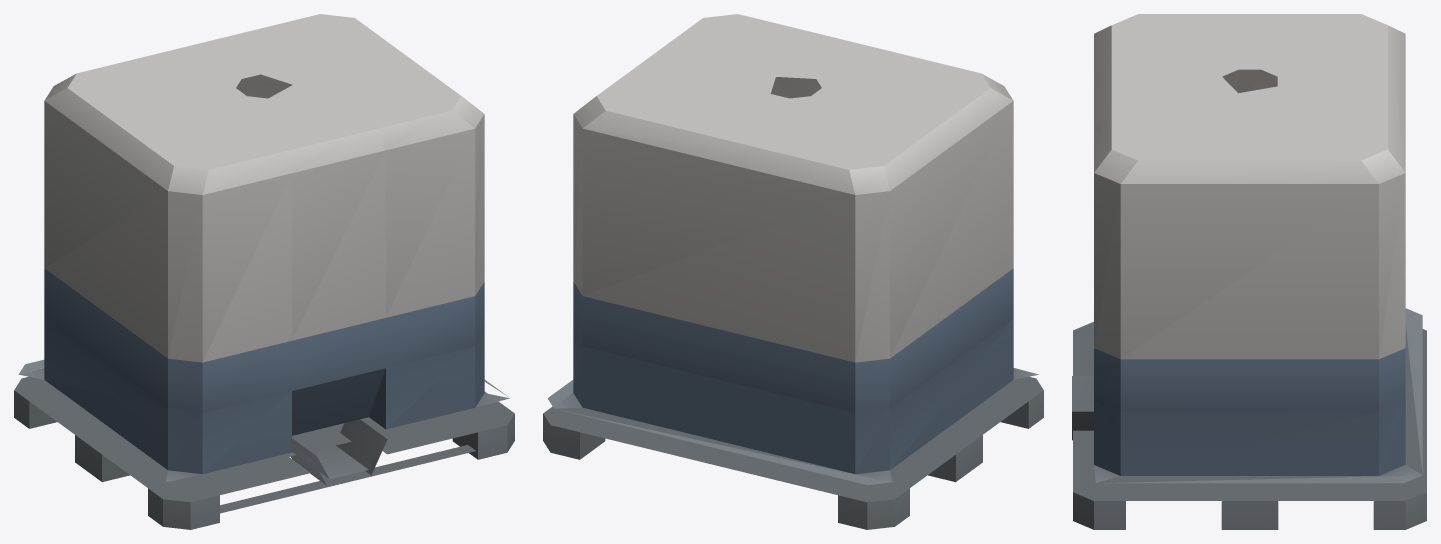
File: ibc.lod.glb
3 views of the same model, side by side, from view 1: azimuth 30°, elevation 25°; view 2: azimuth 150°, elevation 25°; view 3: azimuth 270°, elevation 25° (orthographic). The views are drawn at different scales.
Visible parts, largest first — view 1: ibc; view 2: ibc; view 3: ibc.
Part boxes in pixels (<box>): ibc: <box>14,14,514,529</box>; ibc: <box>543,14,1043,529</box>; ibc: <box>1072,14,1426,529</box>.
Bounding box in the file's own units: 1.2 × 1.12 × 1.
